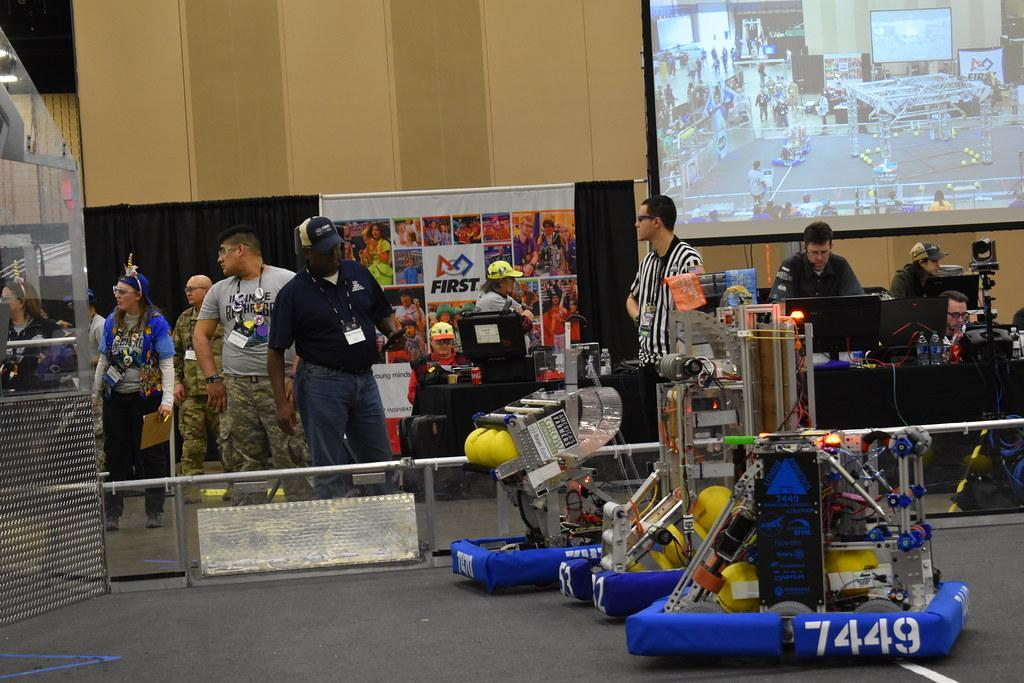robot: (551, 291, 873, 627), (618, 421, 978, 671), (438, 314, 677, 598)
